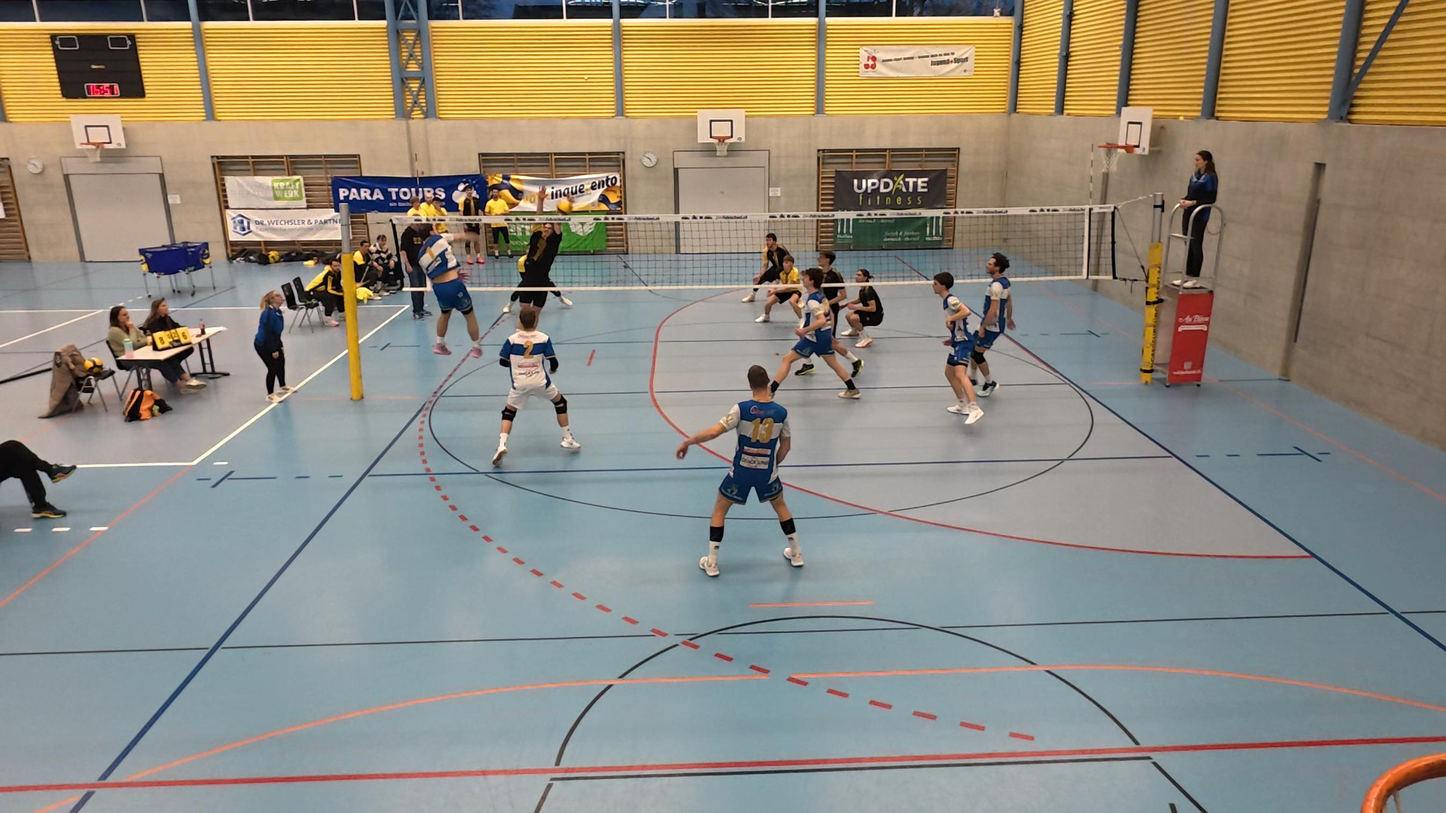attacco: (417, 220, 493, 360)
muro: (510, 196, 582, 316)
